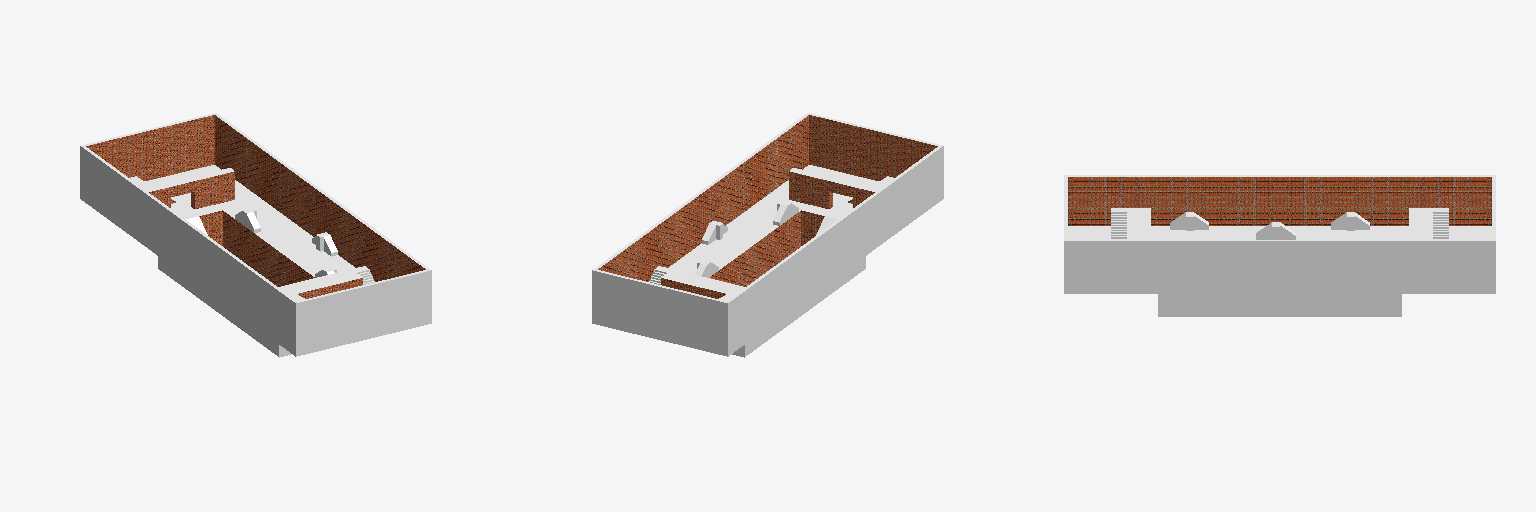
The picture shows the model from 3 angles: view 1: azimuth 30°, elevation 25°; view 2: azimuth 150°, elevation 25°; view 3: azimuth 270°, elevation 25°; orthographic projection.
Parts seen in each view (by area): view 1: Level; view 2: Level; view 3: Level.
Part boxes in pixels (bbox=[...]): Level: bbox=[80, 113, 431, 357]; Level: bbox=[592, 113, 943, 357]; Level: bbox=[1064, 175, 1495, 316].
Bounding box in the file's own units: 40 × 27 × 110.
Materials: 5 (1 with a texture image).